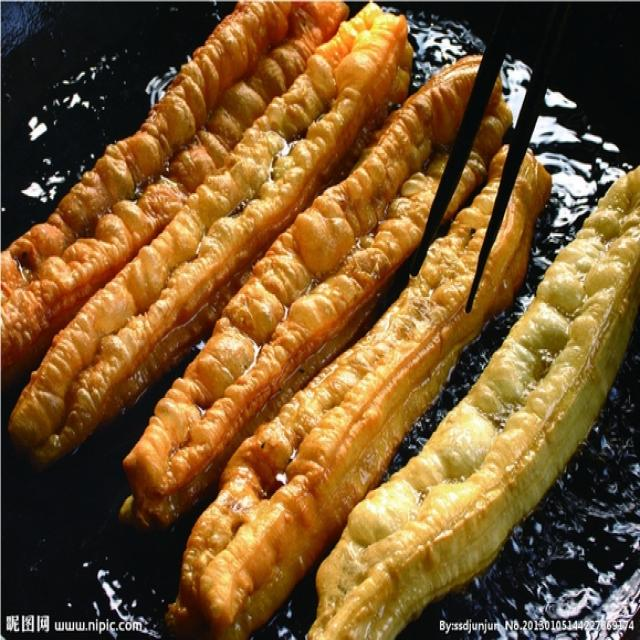炸货点心: (20, 23, 606, 618)
